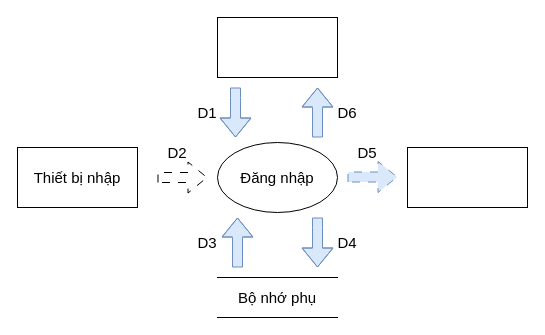
Some shapes in this 545 by 335 pixel diagram are drawn without their labels. Here are the shapes that lost their labels. From the top down, the centre of each, then its label:
At (x=277, y=47): "Người dùng".
At (x=467, y=177): "Thiết bị xuất".
